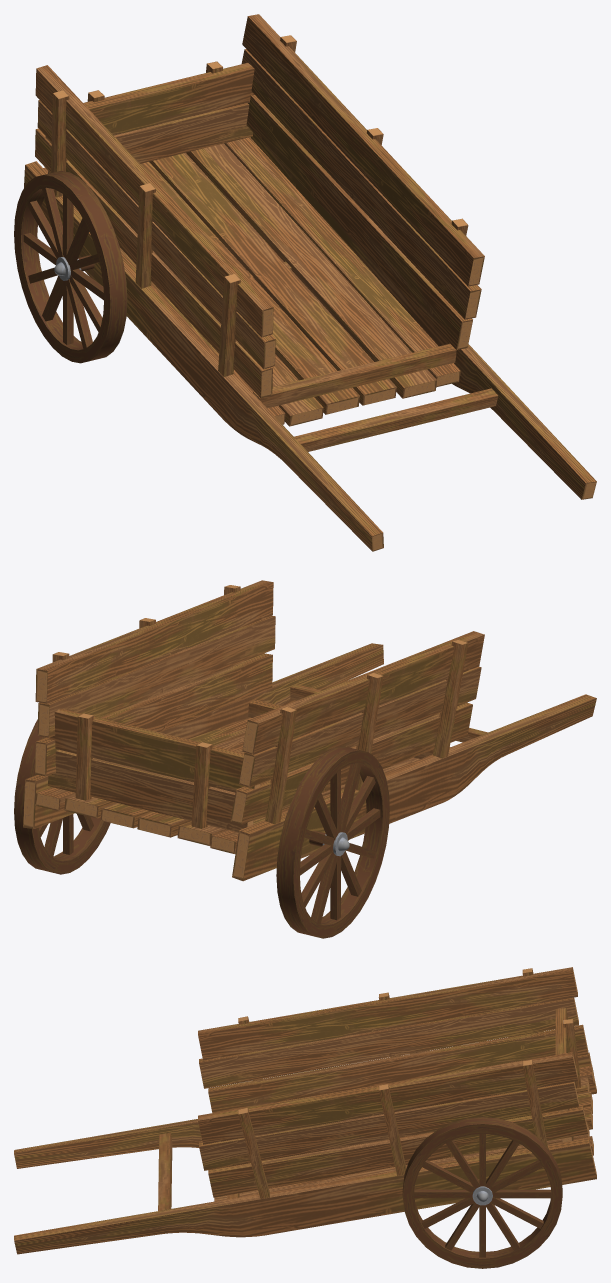
File: Prop_Wagon.gltf
The picture shows the model from 3 angles, top to bottom: view 1: azimuth 30°, elevation 25°; view 2: azimuth 150°, elevation 25°; view 3: azimuth 270°, elevation 25°; orthographic projection. The views are drawn at different scales.
Parts seen in each view (by area): view 1: Prop_Wagon; view 2: Prop_Wagon; view 3: Prop_Wagon.
Boxes of the visible parts, x1,y1,x2,y2 form: Prop_Wagon: [14, 14, 596, 551]; Prop_Wagon: [14, 580, 596, 938]; Prop_Wagon: [14, 967, 596, 1268].
Size of what is drawn, in the model's own units: 1.95 by 1.53 by 4.02.
1 material, 1 textured.
